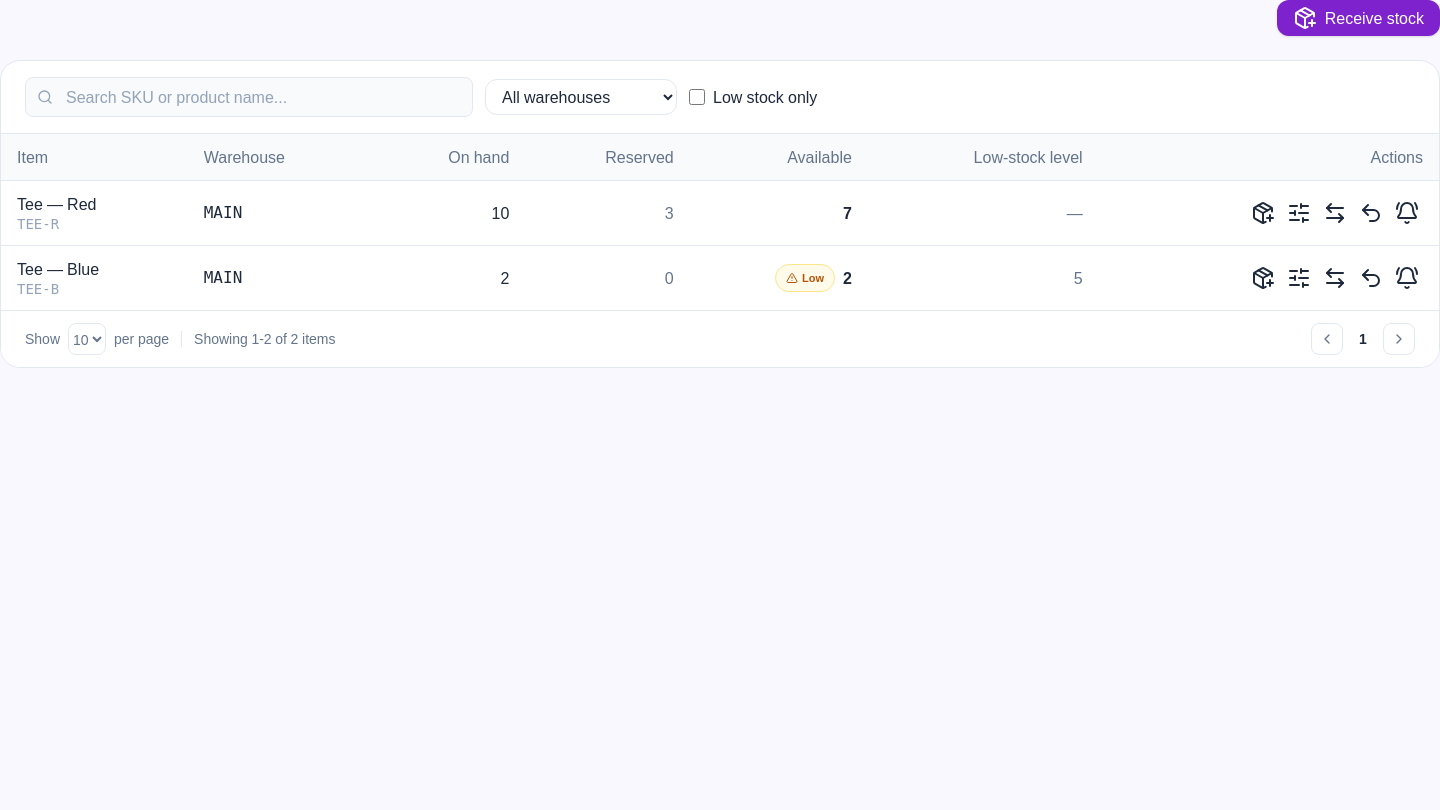
Scenario: StockLevels › ປຸ່ມ 'ຮັບສະຕ໋ອກ' ດ້ານເທິງ ເປີດ dialog ທີ່ມີ variant picker
Expected: the row with test id "row-stock-s1" is shown, [1,180,1439,246]
Click the button "Receive stock" at [1358, 18], box [1277,0,1439,36]
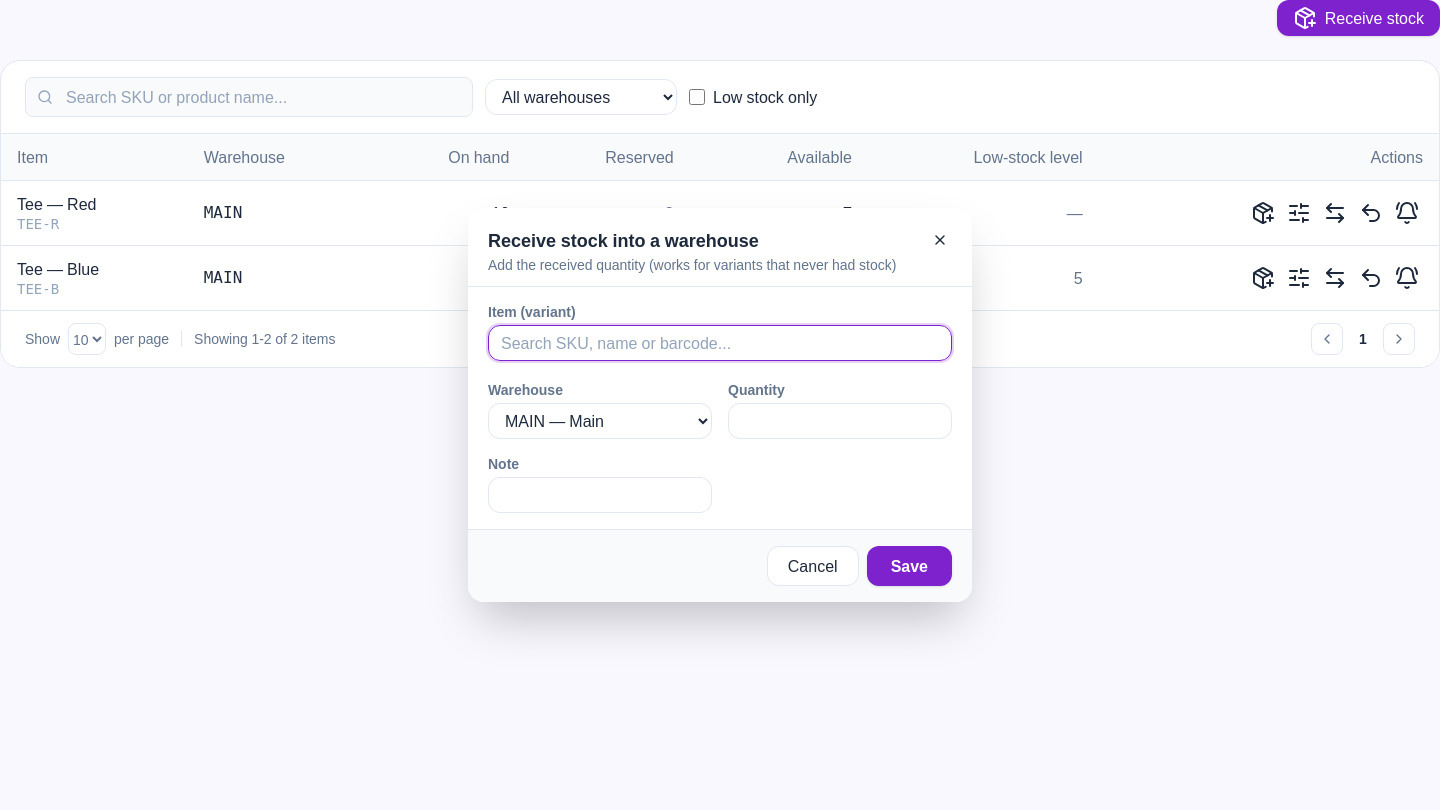
Result: the heading "Receive stock into a warehouse" is shown at [488,226,759,255]
Result: the dropdown labelled "Item (variant)" is shown at [488,325,952,361]
